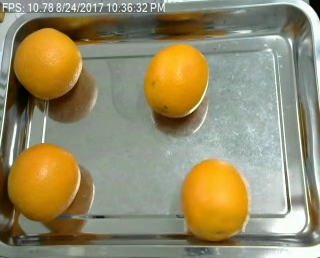Orange: (6, 143, 82, 220), (182, 159, 250, 240), (13, 26, 82, 99), (143, 43, 209, 117)
